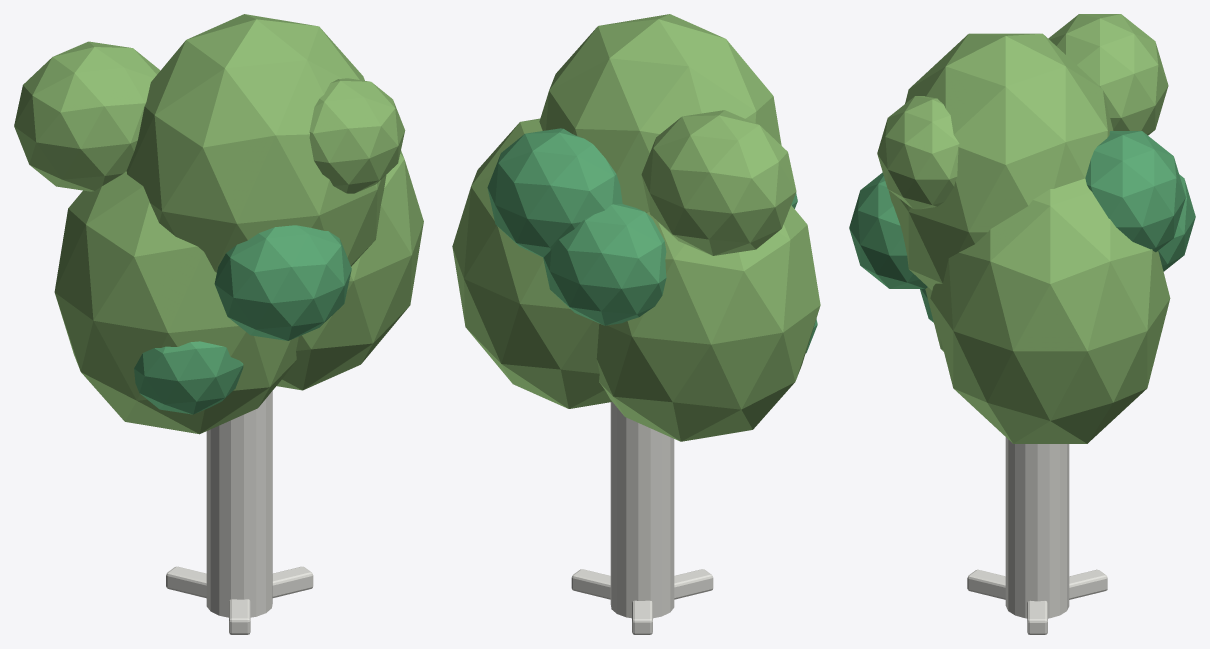
Rendered from NAT_TREE_BIRCH_1x1_001.glb.
The picture shows the model from 3 angles, left to right: view 1: azimuth 30°, elevation 25°; view 2: azimuth 150°, elevation 25°; view 3: azimuth 270°, elevation 25°; orthographic projection. The views are drawn at different scales.
Parts seen in each view (by area): view 1: NAT_TREE_BIRCH_1x1_001_Visual; view 2: NAT_TREE_BIRCH_1x1_001_Visual; view 3: NAT_TREE_BIRCH_1x1_001_Visual.
Boxes of the visible parts, bbox=[...] form: NAT_TREE_BIRCH_1x1_001_Visual: bbox=[14, 14, 423, 634]; NAT_TREE_BIRCH_1x1_001_Visual: bbox=[452, 14, 820, 634]; NAT_TREE_BIRCH_1x1_001_Visual: bbox=[849, 14, 1195, 634].
Size of what is drawn, in the model's own units: 1.22 by 1.98 by 1.09.
